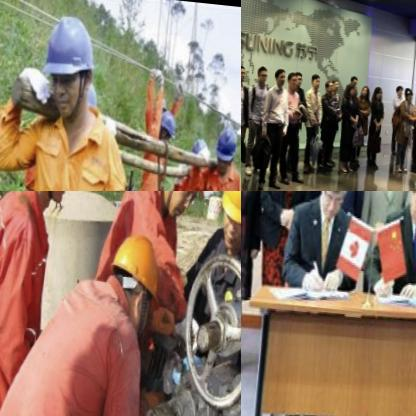head: (313, 191, 351, 216), (271, 64, 287, 87), (255, 64, 268, 84), (290, 67, 303, 86), (284, 71, 297, 89), (371, 84, 383, 100), (308, 74, 320, 88), (344, 82, 356, 96), (323, 78, 333, 92), (329, 75, 338, 90), (404, 85, 413, 100), (241, 61, 247, 83), (359, 84, 369, 97), (393, 82, 402, 96), (349, 74, 357, 88)
helmet: (34, 9, 104, 128), (102, 225, 166, 330), (212, 191, 241, 253), (210, 119, 240, 172), (156, 191, 218, 213), (153, 110, 179, 148)
